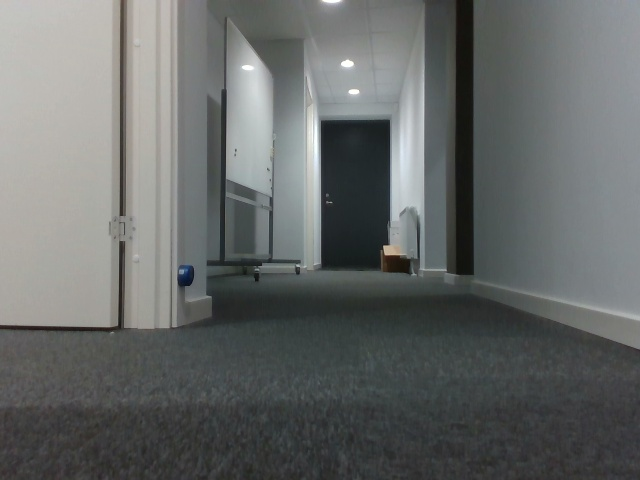alfa: (175, 262, 197, 287)
